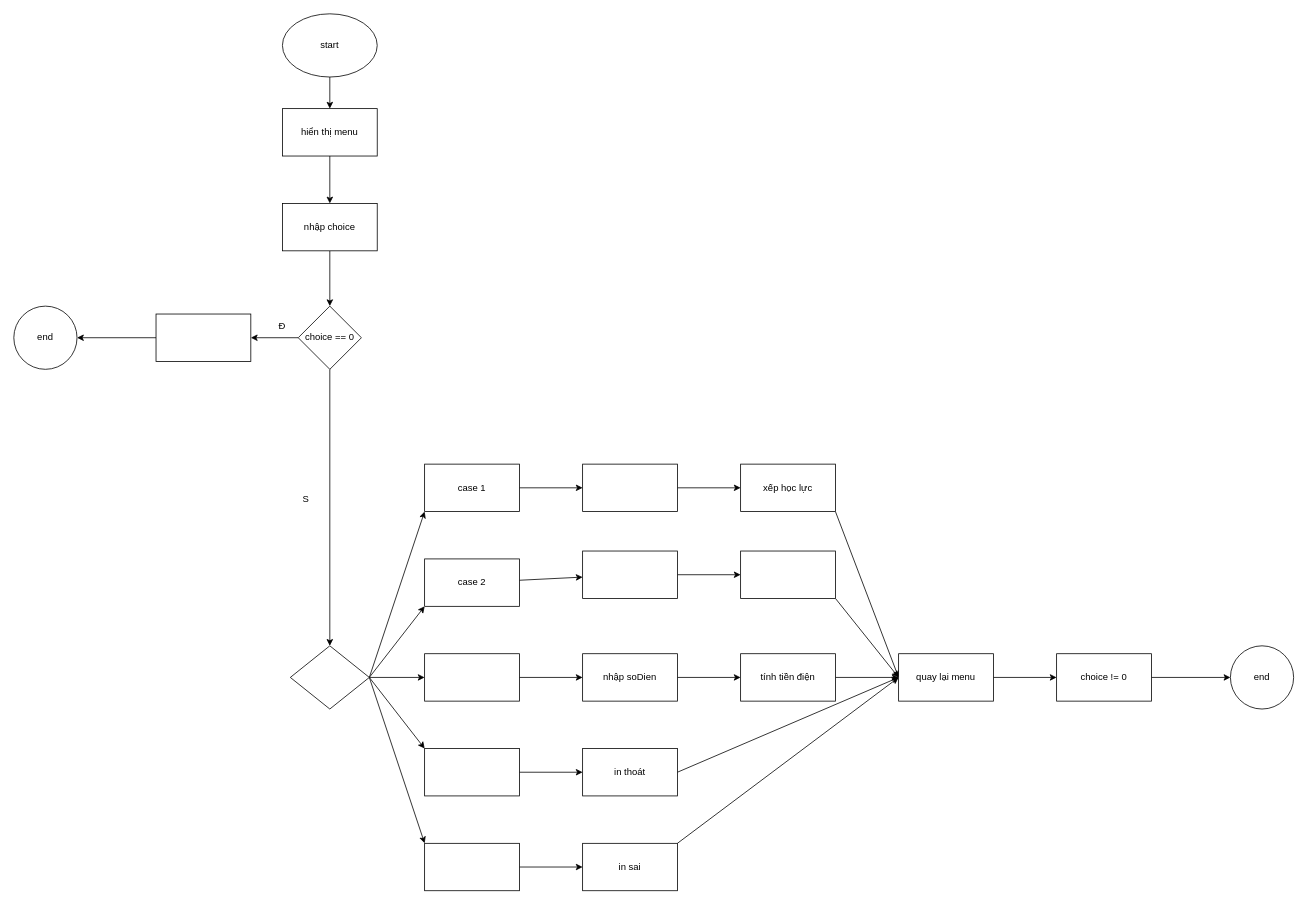
Image size: 1307x905. Some labels were removed from this diagram. Here are the shapes that lost their labels. From the top down, the box of each, then its label:
(155, 313, 251, 361): In thoát chương trình
(582, 463, 677, 512): nhập điểm
(582, 550, 677, 598): nhập a,b
(740, 550, 835, 598): giải pt bậc 1
(290, 645, 369, 709): switch(choice)
(424, 653, 519, 701): case 3
(424, 748, 519, 796): case 0
(424, 843, 519, 891): default
